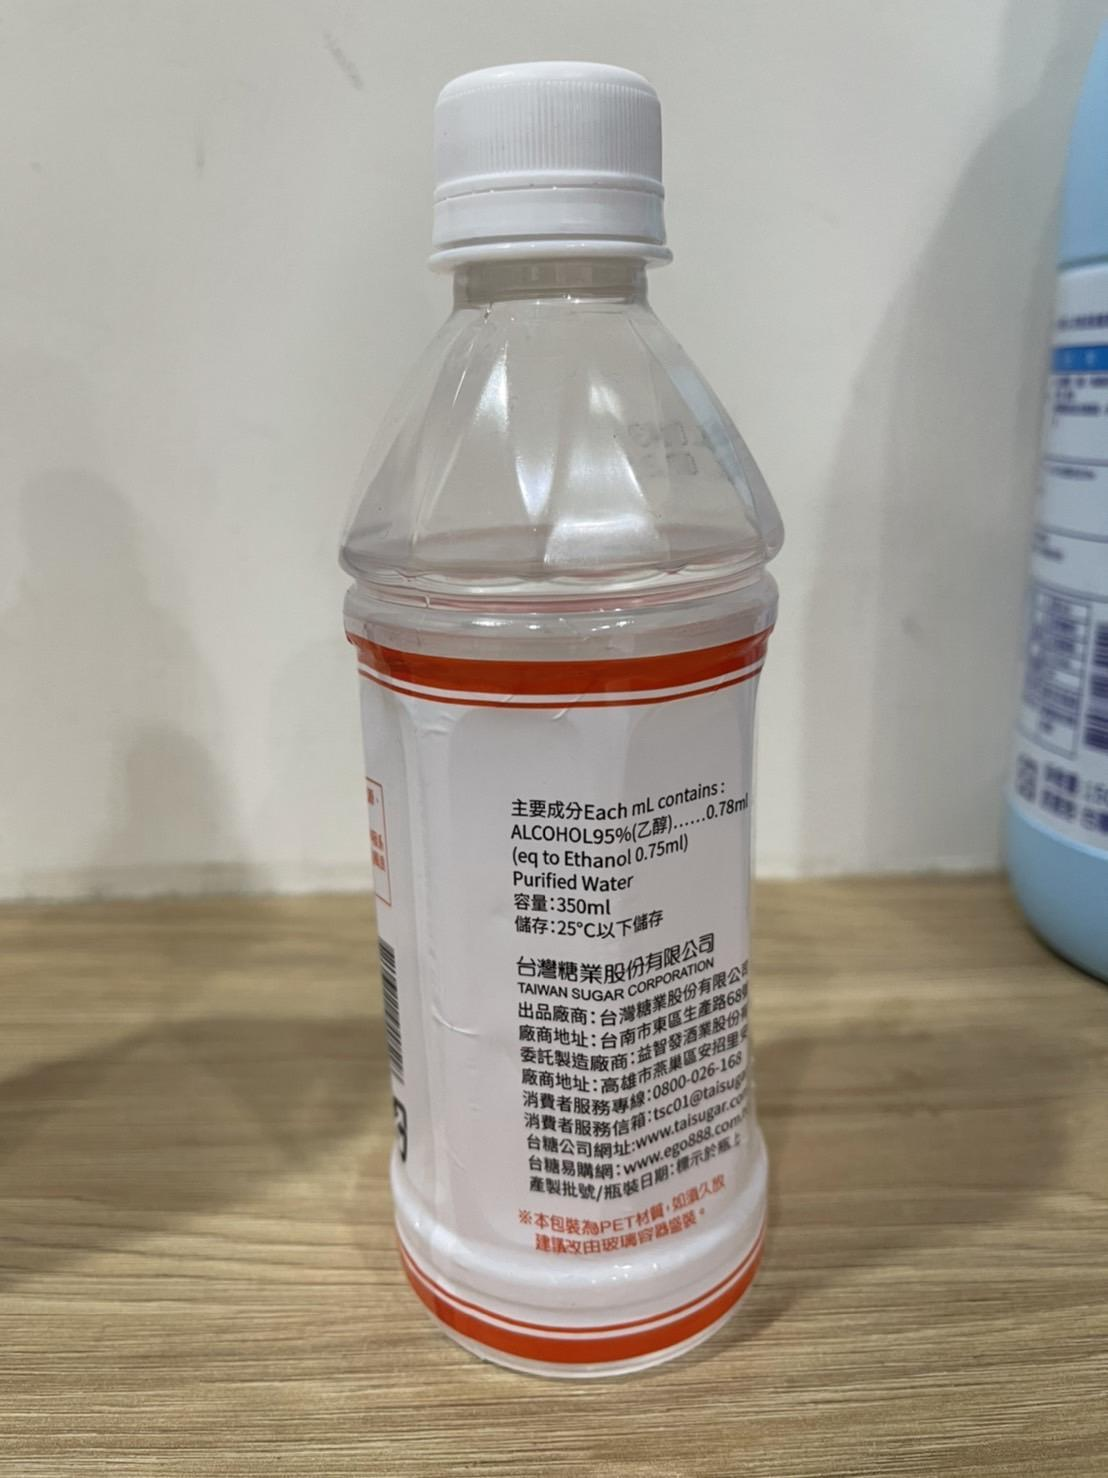bottle: (332, 47, 795, 1399)
